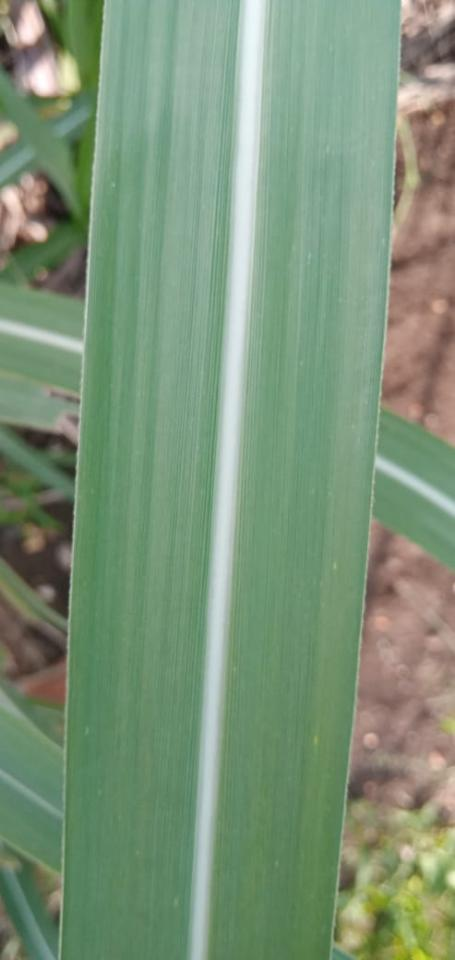Healthy: (208, 0, 401, 959), (58, 0, 241, 959), (371, 466, 454, 570), (0, 691, 66, 816), (376, 407, 454, 500), (0, 779, 62, 875), (0, 284, 85, 341), (0, 333, 79, 391)
